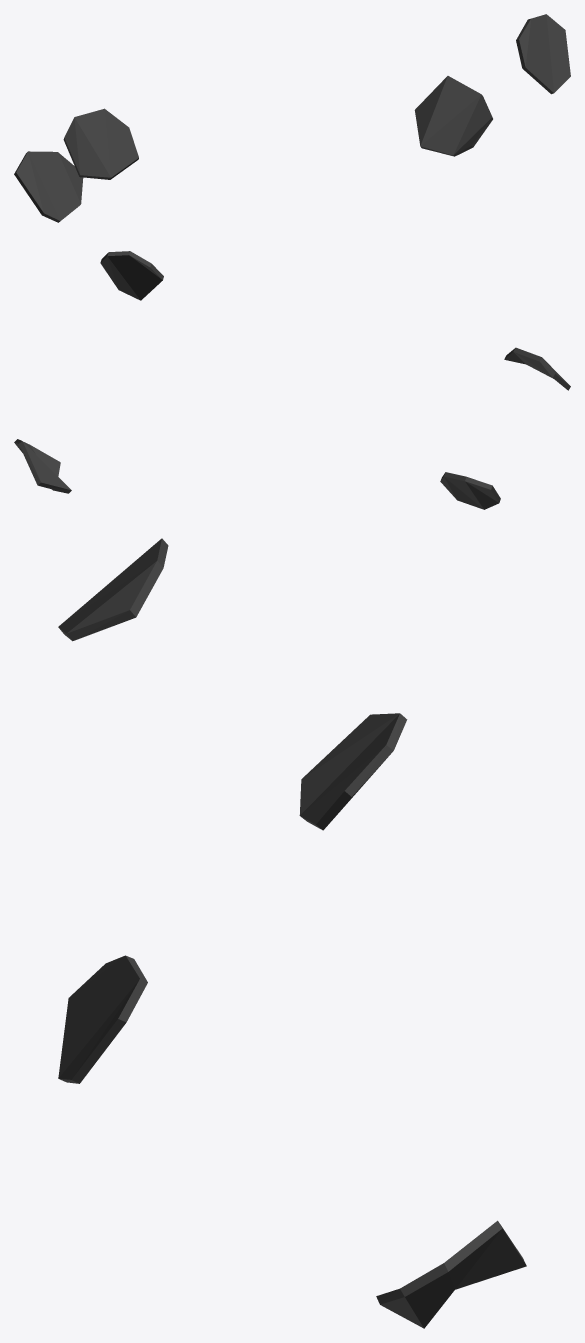
File: c2_transverse_foramen.glb
3 renders of one model, top to bottom at view 1: azimuth 30°, elevation 25°; view 2: azimuth 150°, elevation 25°; view 3: azimuth 270°, elevation 25°, orthographic. The views are drawn at different scales.
Parts seen in each view (by area): view 1: c2_transverse_foramen; view 2: c2_transverse_foramen; view 3: c2_transverse_foramen.
Boxes of the visible parts, bbox=[...] form: c2_transverse_foramen: bbox=[14, 14, 570, 222]; c2_transverse_foramen: bbox=[14, 251, 570, 509]; c2_transverse_foramen: bbox=[58, 538, 526, 1328].
Size of the model in its own units: 22.99 by 8.95 by 9.97.
1 material, 1 textured.
